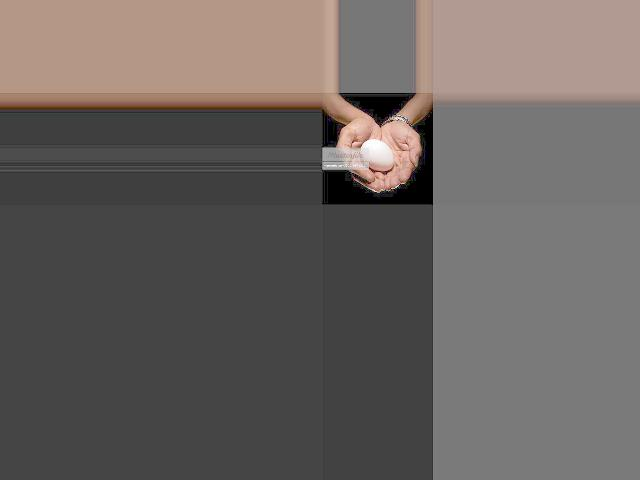egg: (361, 139, 394, 172)
